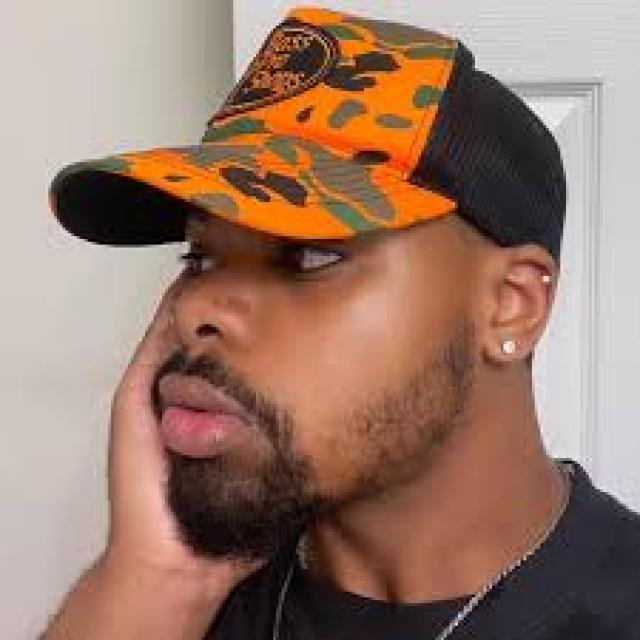cap: (20, 0, 623, 344)
